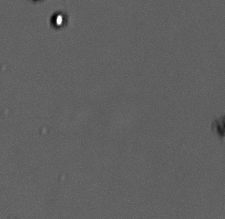Living Cell: (51, 11, 67, 29)
